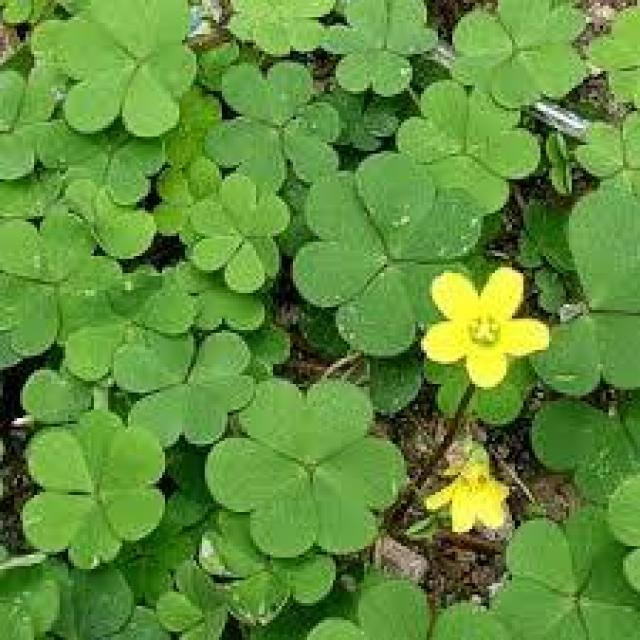organic waste: (424, 266, 549, 391), (424, 441, 535, 543)
